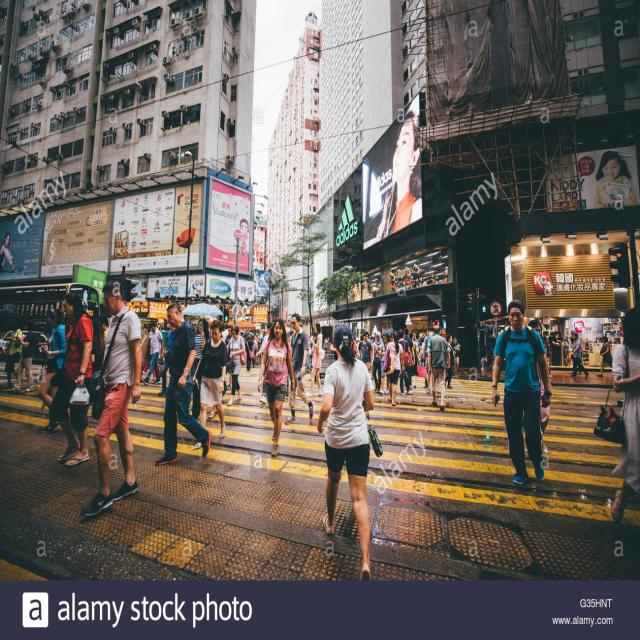body: (316, 321, 384, 594), (79, 279, 148, 518), (488, 297, 554, 486), (594, 306, 640, 531), (153, 302, 212, 468), (47, 291, 93, 469), (369, 104, 427, 240), (256, 316, 296, 456), (189, 318, 227, 451), (520, 319, 551, 455), (36, 306, 68, 434), (283, 311, 315, 425), (593, 148, 639, 208), (89, 309, 108, 418), (426, 325, 449, 411), (192, 316, 210, 421), (12, 315, 35, 395), (226, 325, 247, 407), (4, 315, 24, 397), (140, 321, 164, 387), (384, 328, 404, 406), (255, 321, 273, 405), (306, 321, 324, 398), (408, 326, 434, 378), (546, 329, 582, 366), (397, 329, 414, 396), (240, 328, 266, 370), (226, 325, 242, 390), (0, 228, 19, 276), (372, 329, 386, 394), (570, 334, 589, 379), (378, 331, 390, 396), (595, 336, 613, 378), (233, 213, 249, 258), (358, 330, 374, 374), (444, 332, 454, 390), (451, 336, 462, 376), (304, 331, 314, 374), (403, 327, 414, 360), (186, 276, 202, 296), (152, 276, 163, 299), (220, 322, 229, 339), (285, 329, 293, 346), (368, 331, 377, 342), (322, 335, 330, 344)
